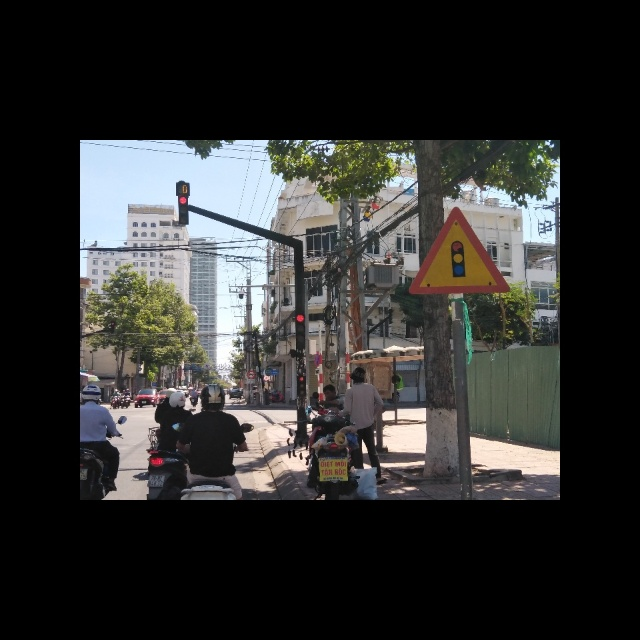Giao nhau có tín hiệu đèn: (406, 206, 509, 294)
Đèn đỏ: (295, 314, 304, 323)
